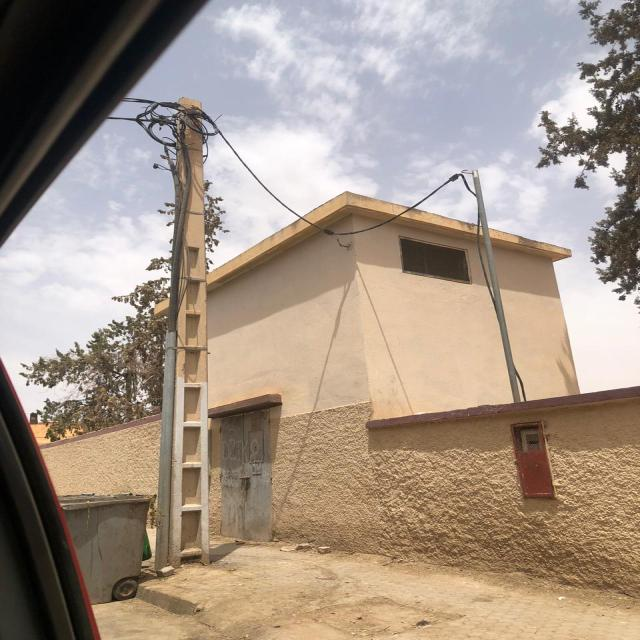Electric pole: (155, 98, 209, 570)
